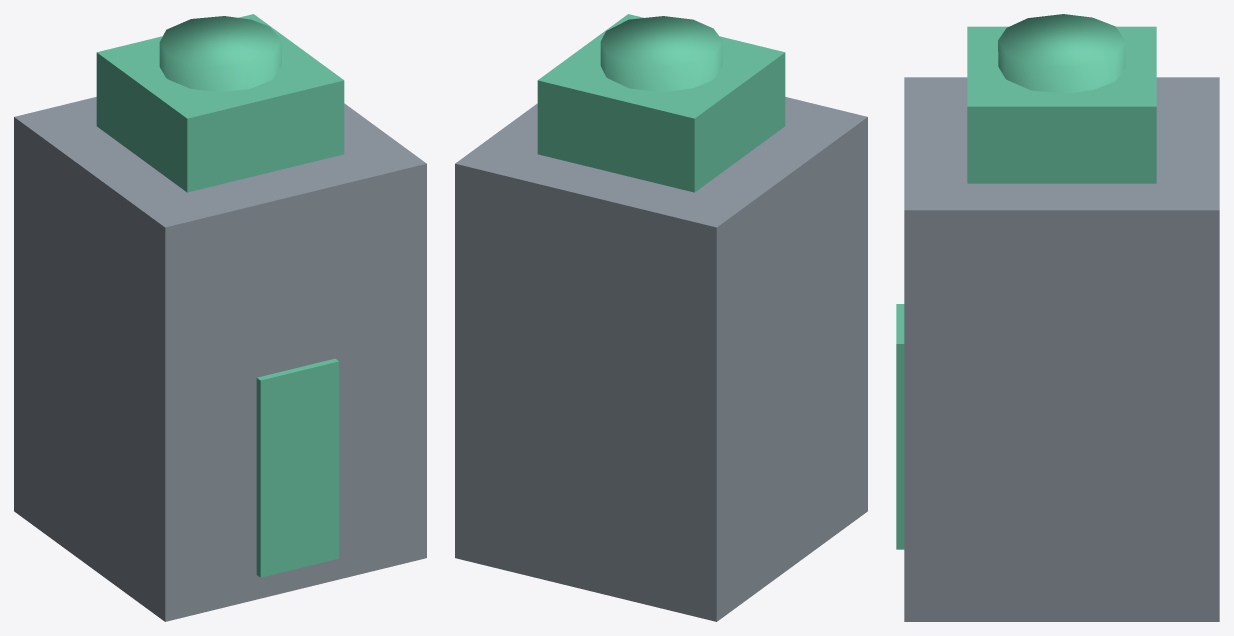
File: CO_Radar_LOD1.glb
The picture shows the model from 3 angles, left to right: view 1: azimuth 30°, elevation 25°; view 2: azimuth 150°, elevation 25°; view 3: azimuth 270°, elevation 25°; orthographic projection. The views are drawn at different scales.
Visible parts, largest first — view 1: EntranceGate; view 2: EntranceGate; view 3: EntranceGate.
Boxes of the visible parts, bbox=[...] form: EntranceGate: bbox=[14, 14, 426, 621]; EntranceGate: bbox=[455, 14, 867, 621]; EntranceGate: bbox=[896, 14, 1219, 621].
Size of the model in its own units: 400 by 720 by 410.
